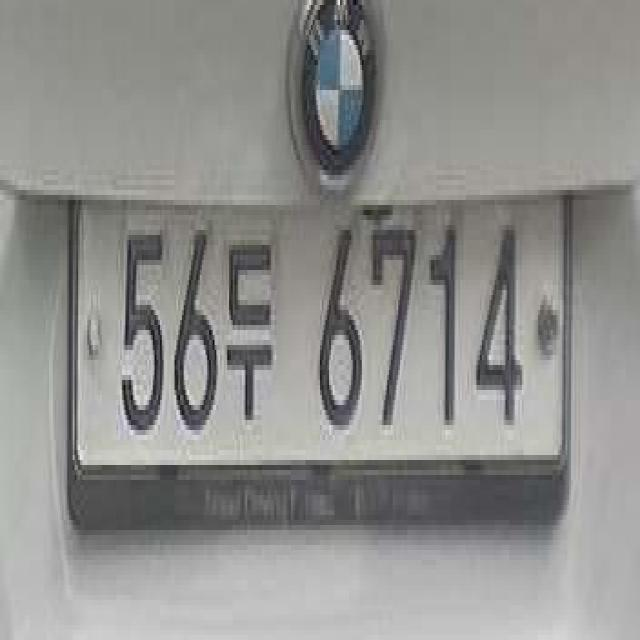illegal_plate: (61, 174, 578, 556)
